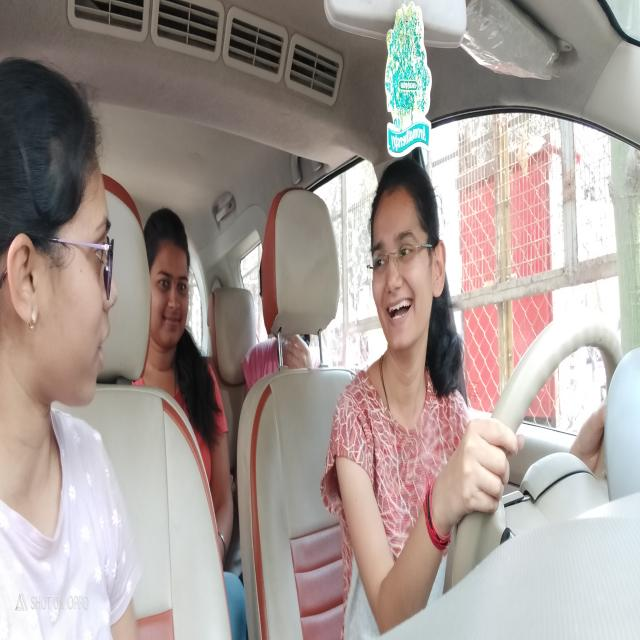LeftRight: (361, 155, 451, 389)
person: (0, 64, 121, 436), (143, 195, 196, 370)
talking: (382, 297, 417, 342), (93, 330, 112, 377)
